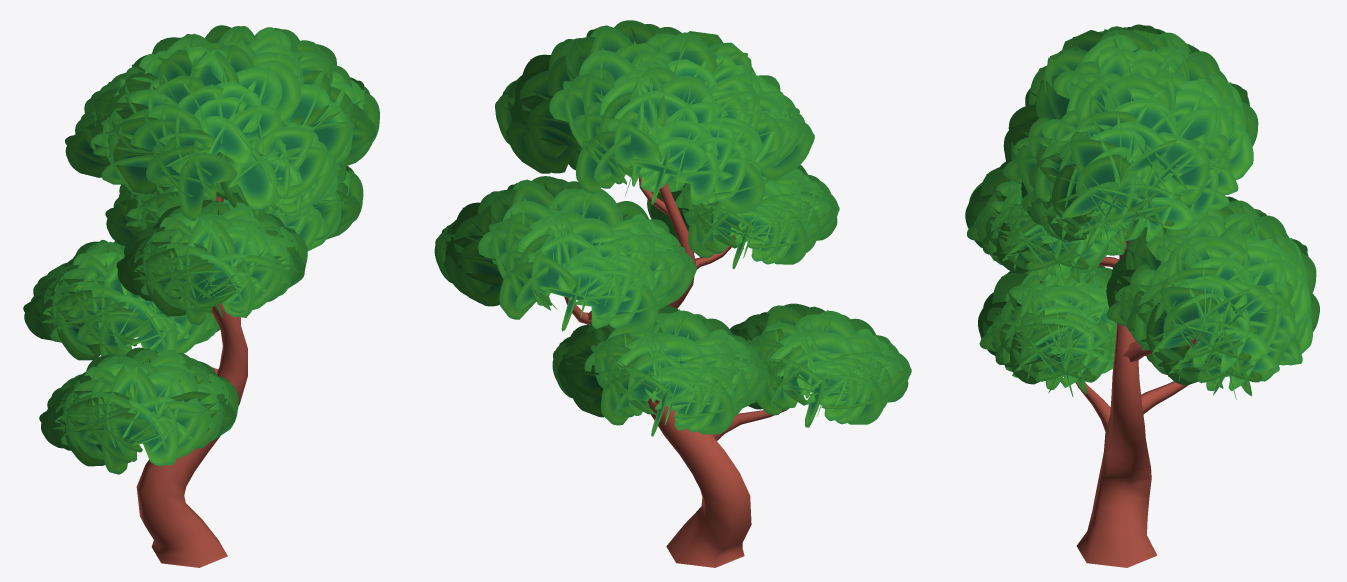
The model's file is Tree_01.fbx.
3 views of the same model, side by side, from view 1: azimuth 30°, elevation 25°; view 2: azimuth 150°, elevation 25°; view 3: azimuth 270°, elevation 25° (orthographic). The views are drawn at different scales.
Parts seen in each view (by area): view 1: Plane.058, BezierCurve.006; view 2: Plane.058, BezierCurve.006; view 3: Plane.058, BezierCurve.006.
Boxes of the visible parts, left/top/right/bottom form: Plane.058: left=23, top=25, right=379, bottom=474; BezierCurve.006: left=136, top=196, right=247, bottom=567; Plane.058: left=434, top=20, right=911, bottom=436; BezierCurve.006: left=564, top=176, right=786, bottom=567; Plane.058: left=965, top=24, right=1319, bottom=399; BezierCurve.006: left=1075, top=240, right=1197, bottom=567.
Bounding box in the file's own units: 1055 × 1287 × 831.
